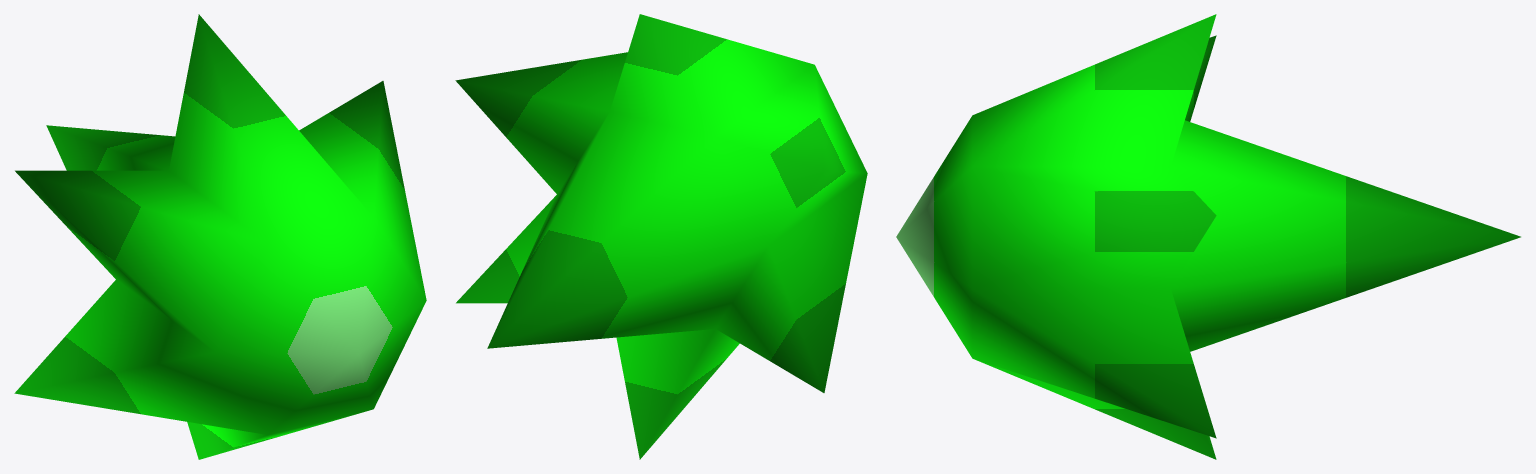
The model's file is blast.obj.
3 views of the same model, side by side, from view 1: azimuth 30°, elevation 25°; view 2: azimuth 150°, elevation 25°; view 3: azimuth 270°, elevation 25° (orthographic).
Visible parts, largest first — view 1: blast; view 2: blast; view 3: blast.
Boxes of the visible parts, x1,y1,x2,y2 form: blast: (14,14,426,459); blast: (455,14,867,459); blast: (896,14,1520,459).
Bounding box in the file's own units: 0.2792 × 0.3225 × 0.41.
Materials: 1 (1 with a texture image).
